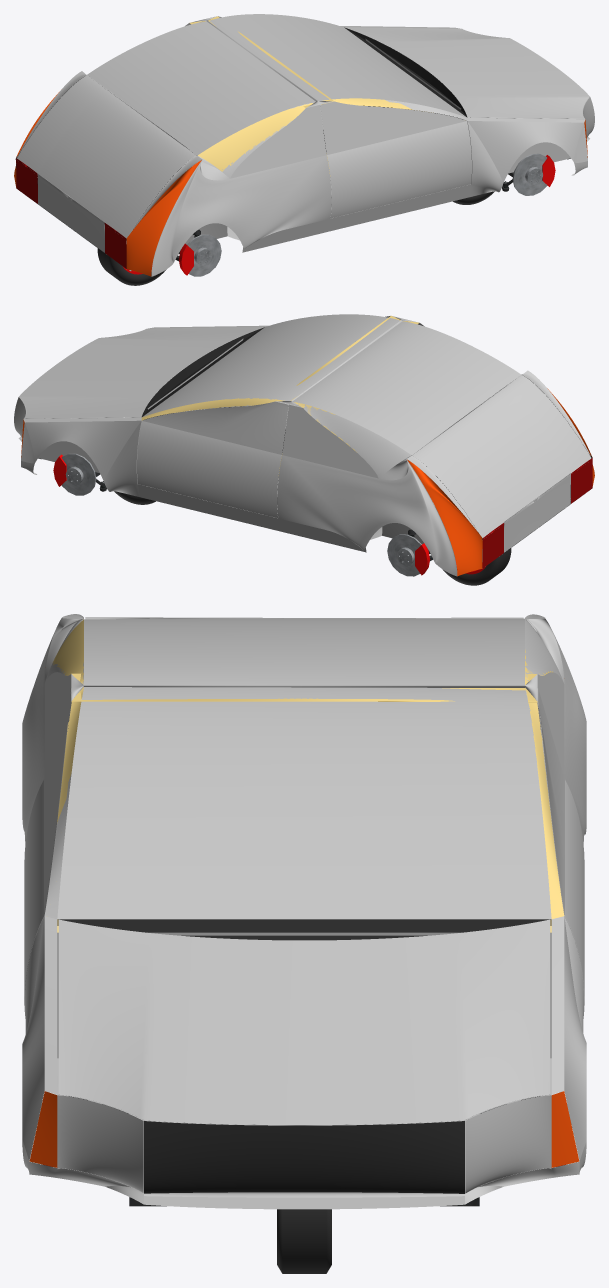
The model's file is main.dae.
The picture shows the model from 3 angles, top to bottom: view 1: azimuth 30°, elevation 25°; view 2: azimuth 150°, elevation 25°; view 3: azimuth 270°, elevation 25°; orthographic projection. The views are drawn at different scales.
Parts seen in each view (by area): view 1: Tailgate, Windscreen_R, DoorFR, Body, Hood, Quarterpanel_R, Windscreen_F, Fender_R, Taillight_R, rotor_FR, rotor_RR, Taillight_L (+4 smaller); view 2: Tailgate, Windscreen_R, DoorFL, Hood, Quarterpanel_L, Windscreen_F, Body, Fender_L, Taillight_L, Rockerpanel_L, rotor_FL, rotor_RL (+4 smaller); view 3: Windscreen_F, Hood, Windscreen_R, Bumper_F, Body, Headlight_L, Headlight_R, Fender_L, Fender_R, DoorFL, DoorFR, Quarterpanel_L (+4 smaller).
Part boxes in pixels (left/top/right/bottom): Tailgate: left=17, top=75, right=196, bottom=252; Windscreen_R: left=87, top=21, right=315, bottom=155; DoorFR: left=320, top=101, right=471, bottom=218; Body: left=15, top=16, right=590, bottom=268; Hood: left=345, top=27, right=589, bottom=119; Quarterpanel_R: left=133, top=155, right=331, bottom=276; Windscreen_F: left=210, top=14, right=466, bottom=117; Fender_R: left=467, top=117, right=587, bottom=197; Taillight_R: left=104, top=160, right=201, bottom=276; rotor_FR: left=512, top=153, right=547, bottom=195; rotor_RR: left=187, top=234, right=221, bottom=276; Taillight_L: left=14, top=92, right=58, bottom=203; Tailgate: left=412, top=375, right=591, bottom=552; Windscreen_R: left=293, top=321, right=521, bottom=454; DoorFL: left=137, top=401, right=288, bottom=517; Hood: left=19, top=327, right=263, bottom=418; Quarterpanel_L: left=277, top=455, right=477, bottom=576; Windscreen_F: left=142, top=314, right=400, bottom=417; Body: left=18, top=316, right=592, bottom=568; Fender_L: left=21, top=417, right=141, bottom=496; Taillight_L: left=407, top=459, right=504, bottom=576; Rockerpanel_L: left=138, top=484, right=366, bottom=552; rotor_FL: left=61, top=453, right=96, bottom=495; rotor_RL: left=387, top=534, right=421, bottom=576; Windscreen_F: left=57, top=687, right=551, bottom=919; Hood: left=58, top=919, right=550, bottom=1125; Windscreen_R: left=84, top=618, right=524, bottom=685; Bumper_F: left=22, top=1121, right=586, bottom=1197; Body: left=44, top=618, right=564, bottom=1209; Headlight_L: left=465, top=1091, right=579, bottom=1193; Headlight_R: left=29, top=1091, right=143, bottom=1192; Fender_L: left=551, top=916, right=586, bottom=1160; Fender_R: left=22, top=916, right=57, bottom=1160; DoorFL: left=537, top=688, right=584, bottom=1015; DoorFR: left=24, top=688, right=71, bottom=1018; Quarterpanel_L: left=525, top=614, right=586, bottom=843.
Size of what is drawn, in the model's own units: 4.41 by 2.21 by 1.65.
